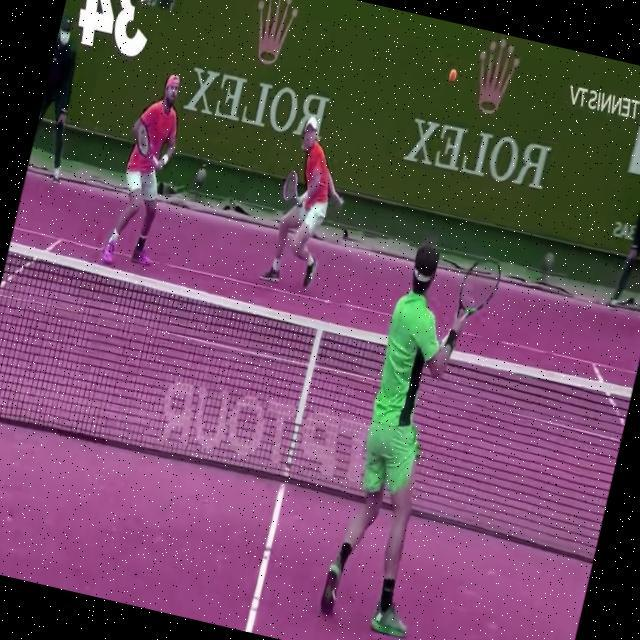player: (312, 233, 505, 640)
